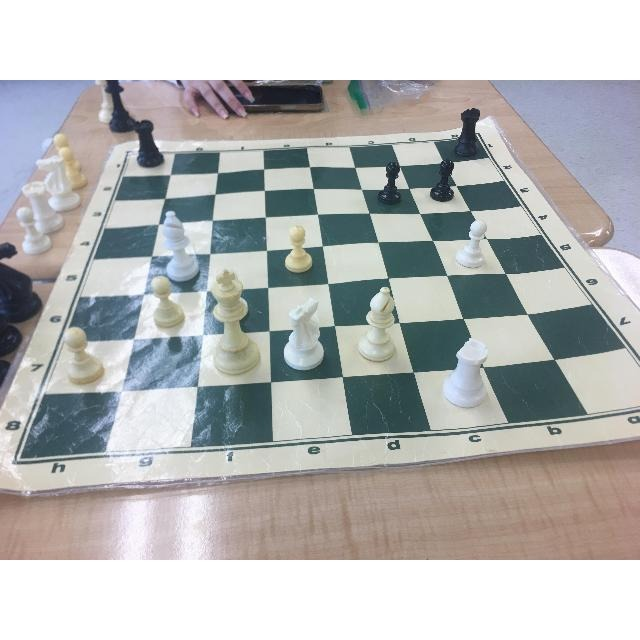black-pawn: (376, 151, 408, 207), (427, 154, 455, 196)
black-rook: (129, 119, 171, 173), (454, 108, 480, 156)
white-bishop: (359, 280, 407, 376), (156, 203, 210, 276)
white-king: (199, 271, 261, 369)
white-knight: (280, 297, 330, 363)
white-pawn: (60, 318, 104, 382), (143, 271, 186, 333), (278, 218, 322, 268), (457, 214, 493, 270)
white-rook: (441, 332, 499, 410)
